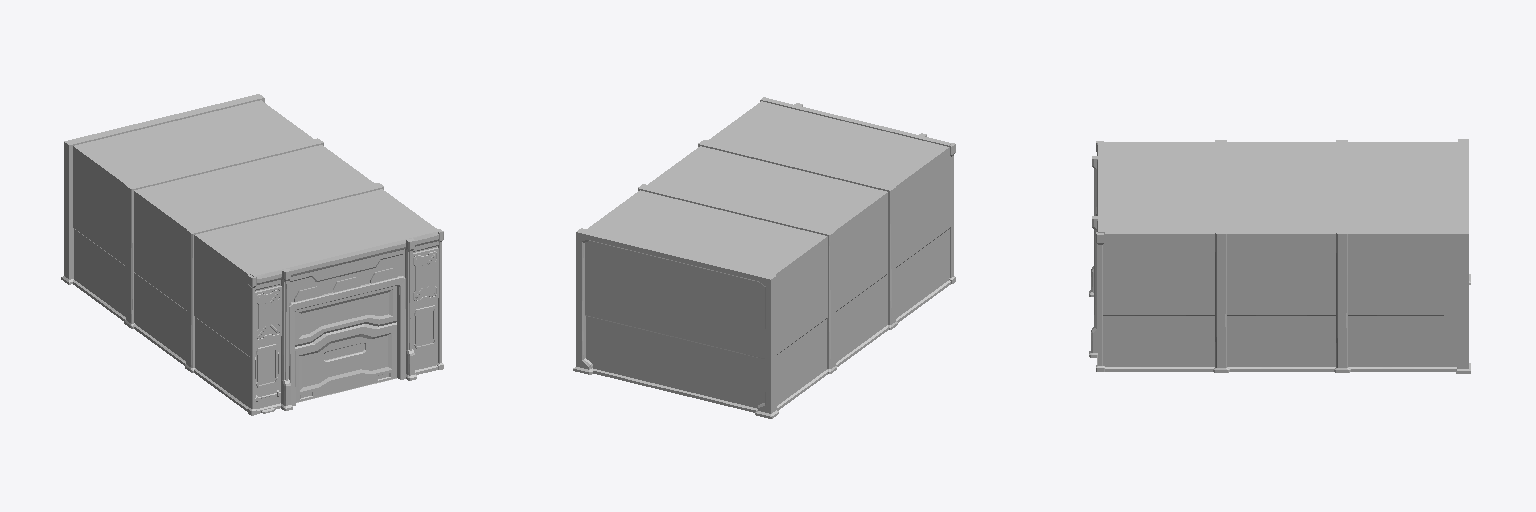
The model's file is SciFi_Building_Large07.obj.
3 views of the same model, side by side, from view 1: azimuth 30°, elevation 25°; view 2: azimuth 150°, elevation 25°; view 3: azimuth 270°, elevation 25° (orthographic).
Visible parts, largest first — view 1: SM_Bld_Warehouse_01; view 2: SM_Bld_Warehouse_01; view 3: SM_Bld_Warehouse_01.
Boxes of the visible parts, x1,y1,x2,y2 form: SM_Bld_Warehouse_01: [61, 94, 443, 415]; SM_Bld_Warehouse_01: [573, 97, 955, 418]; SM_Bld_Warehouse_01: [1089, 139, 1470, 373].
Bounding box in the file's own units: 1.5 × 1 × 2.5.